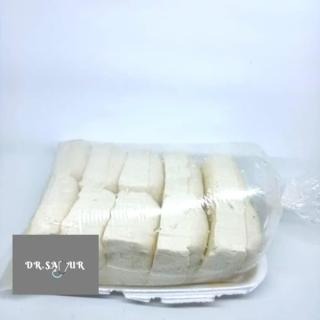Tahu: (30, 128, 268, 294)
